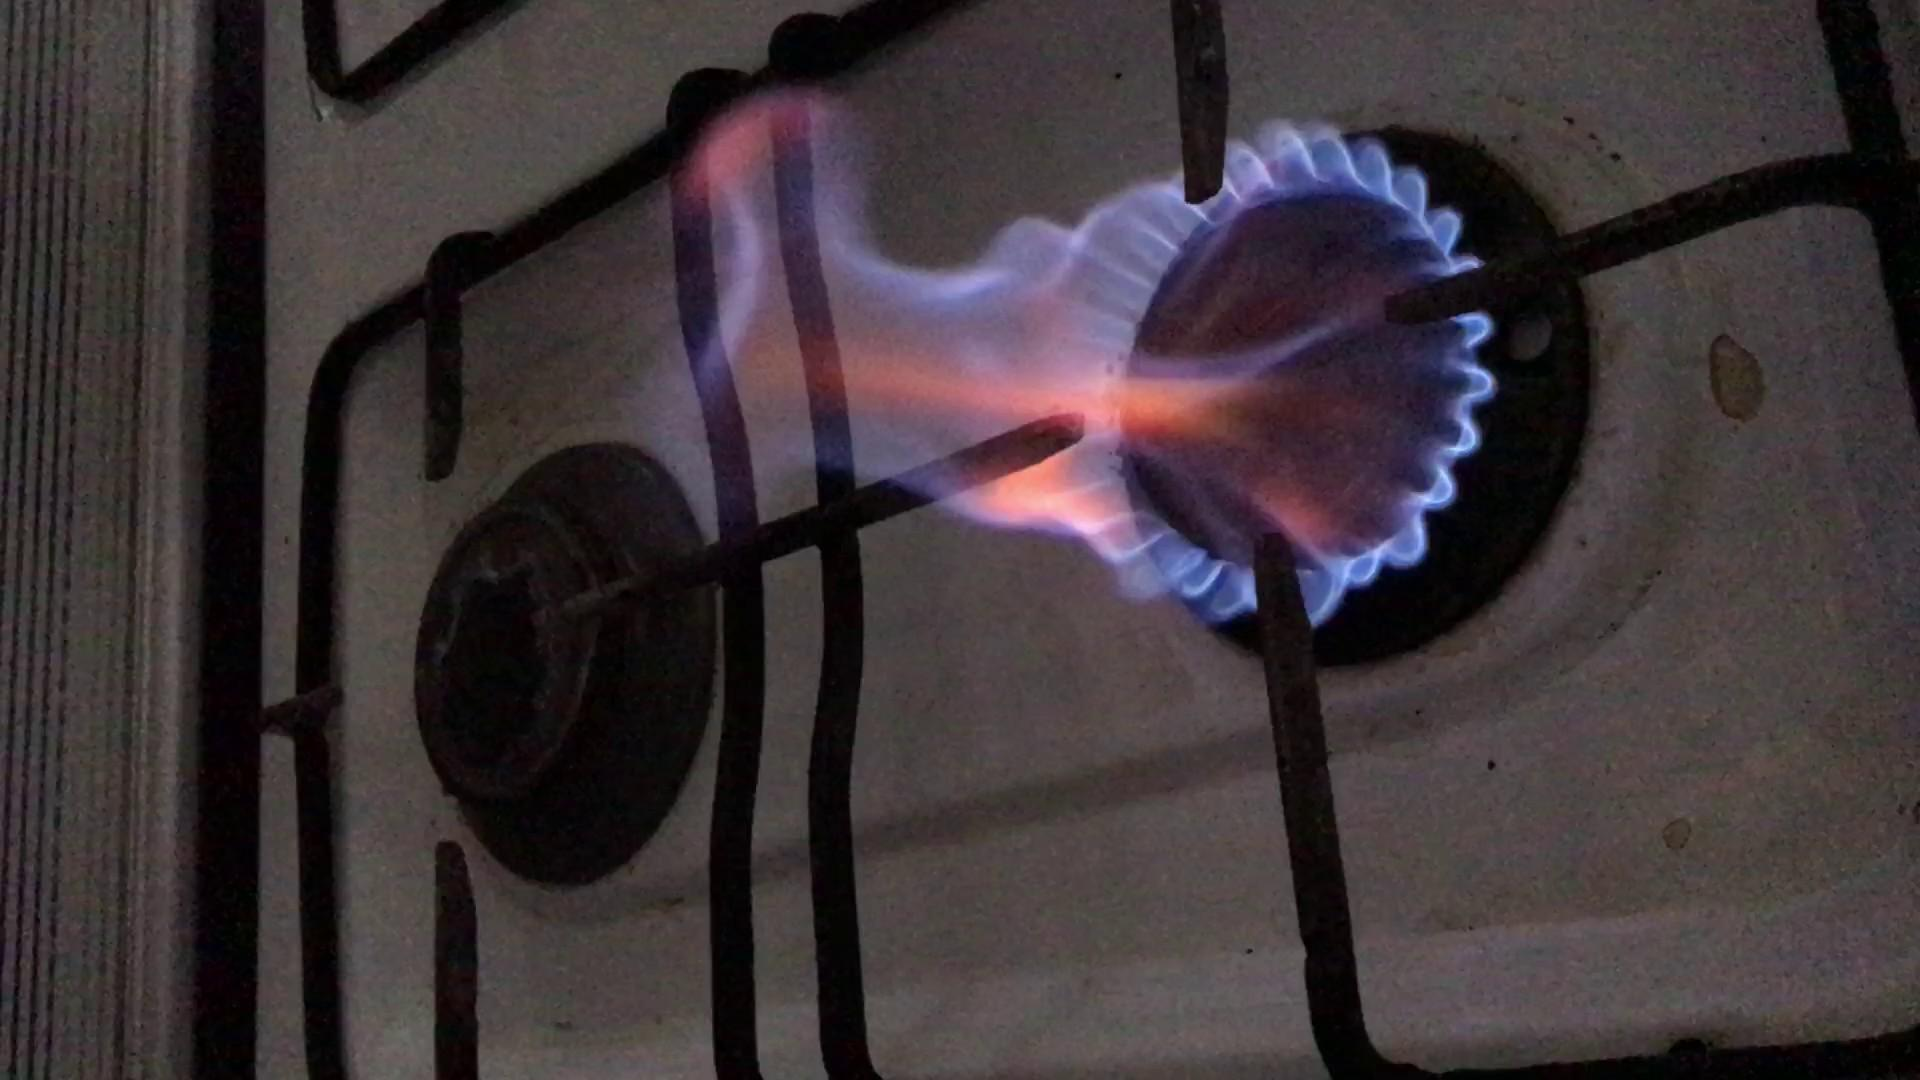fire: (716, 124, 1510, 588)
